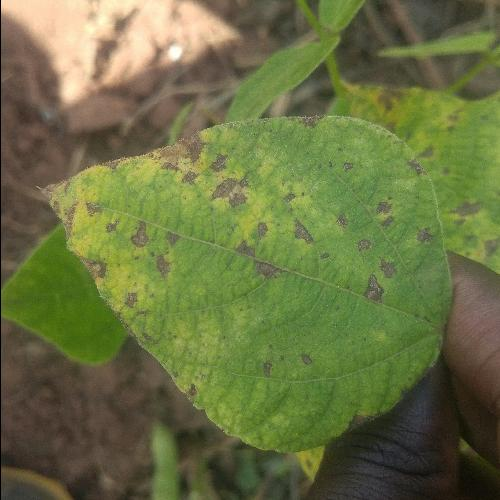hawar: (150, 134, 415, 321), (51, 152, 186, 322)
